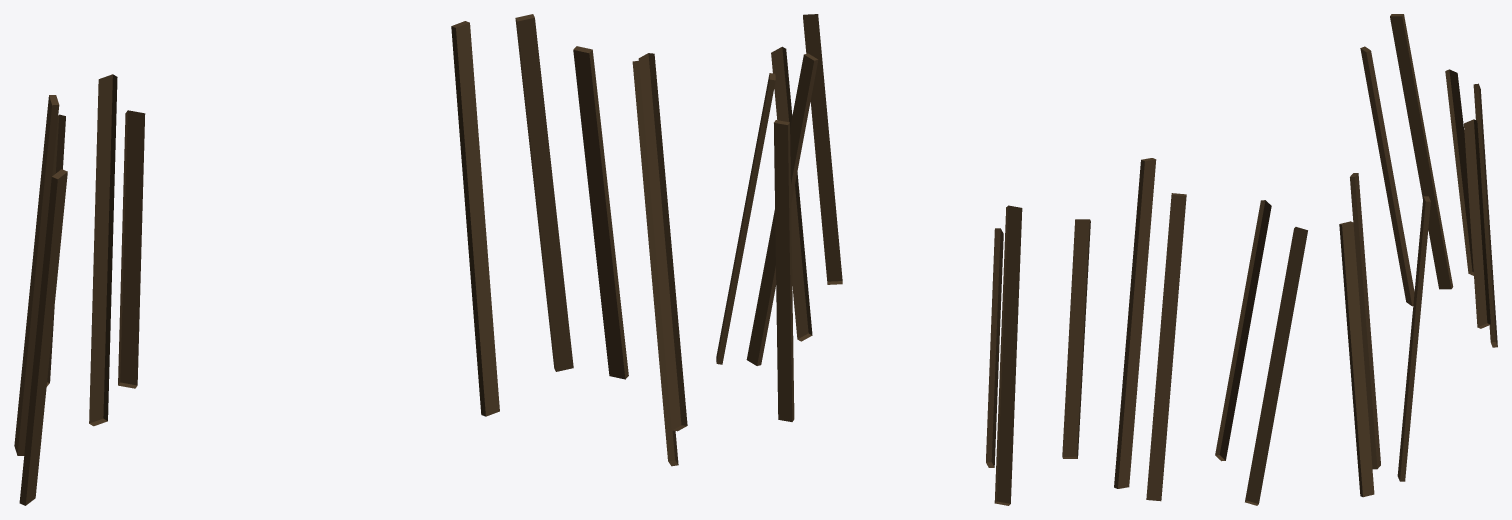
Rendered from bois_abandon.gltf.
The picture shows the model from 3 angles, left to right: view 1: azimuth 30°, elevation 25°; view 2: azimuth 150°, elevation 25°; view 3: azimuth 270°, elevation 25°; orthographic projection. The views are drawn at different scales.
Visible parts, largest first — view 1: Planks.006, Planks.014, Planks.009, Planks.012, Planks.001, Planks.010, Planks.002, Planks, Planks.003, Planks.004; view 2: Planks, Planks.006, Planks.009, Planks.002, Planks.001, Planks.004, Planks.014, Planks.003, Planks.012, Planks.010; view 3: Planks.003, Planks.012, Planks, Planks.001, Planks.010, Planks.014, Planks.002, Planks.006, Planks.004, Planks.009.
Part boxes in pixels (left/top/right/bottom): Planks.006: left=451, top=21, right=499, bottom=416; Planks.014: left=515, top=14, right=573, bottom=371; Planks.009: left=89, top=74, right=117, bottom=426; Planks.012: left=573, top=46, right=628, bottom=379; Planks.001: left=638, top=53, right=687, bottom=431; Planks.010: left=118, top=110, right=145, bottom=388; Planks.002: left=19, top=169, right=67, bottom=505; Planks: left=14, top=95, right=59, bottom=455; Planks.003: left=632, top=60, right=678, bottom=466; Planks.004: left=46, top=114, right=65, bottom=386; Planks: left=1114, top=158, right=1156, bottom=488; Planks.006: left=774, top=120, right=794, bottom=421; Planks.009: left=994, top=205, right=1022, bottom=505; Planks.002: left=1146, top=193, right=1186, bottom=501; Planks.001: left=803, top=14, right=842, bottom=284; Planks.004: left=1062, top=219, right=1090, bottom=458; Planks.014: left=746, top=53, right=818, bottom=365; Planks.003: left=771, top=46, right=812, bottom=341; Planks.012: left=716, top=73, right=775, bottom=364; Planks.010: left=986, top=228, right=1003, bottom=467; Planks.003: left=1245, top=227, right=1307, bottom=505; Planks.012: left=1339, top=221, right=1374, bottom=497; Planks: left=1390, top=14, right=1453, bottom=289; Planks.001: left=1215, top=200, right=1271, bottom=461; Planks.010: left=1464, top=119, right=1490, bottom=328; Planks.014: left=1350, top=173, right=1380, bottom=469; Planks.002: left=1360, top=46, right=1414, bottom=306; Planks.006: left=1397, top=196, right=1430, bottom=481; Planks.004: left=1445, top=69, right=1473, bottom=275; Planks.009: left=1473, top=83, right=1497, bottom=347.
Size of the model in its own units: 4.18 by 2.94 by 2.44.
Materials: 1 (1 with a texture image).
